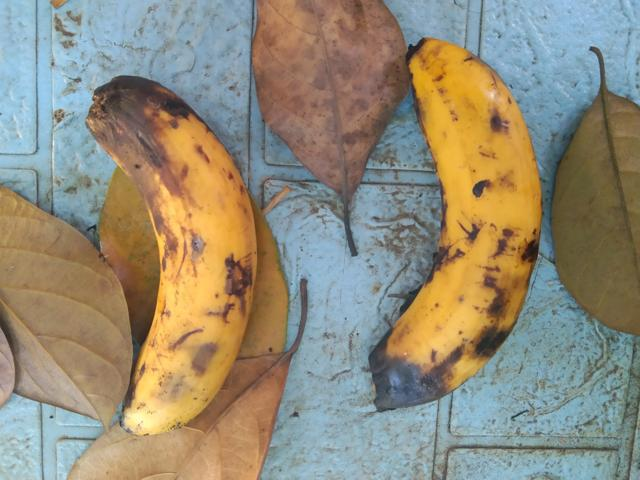overripe: (340, 20, 571, 431), (77, 65, 283, 447)
